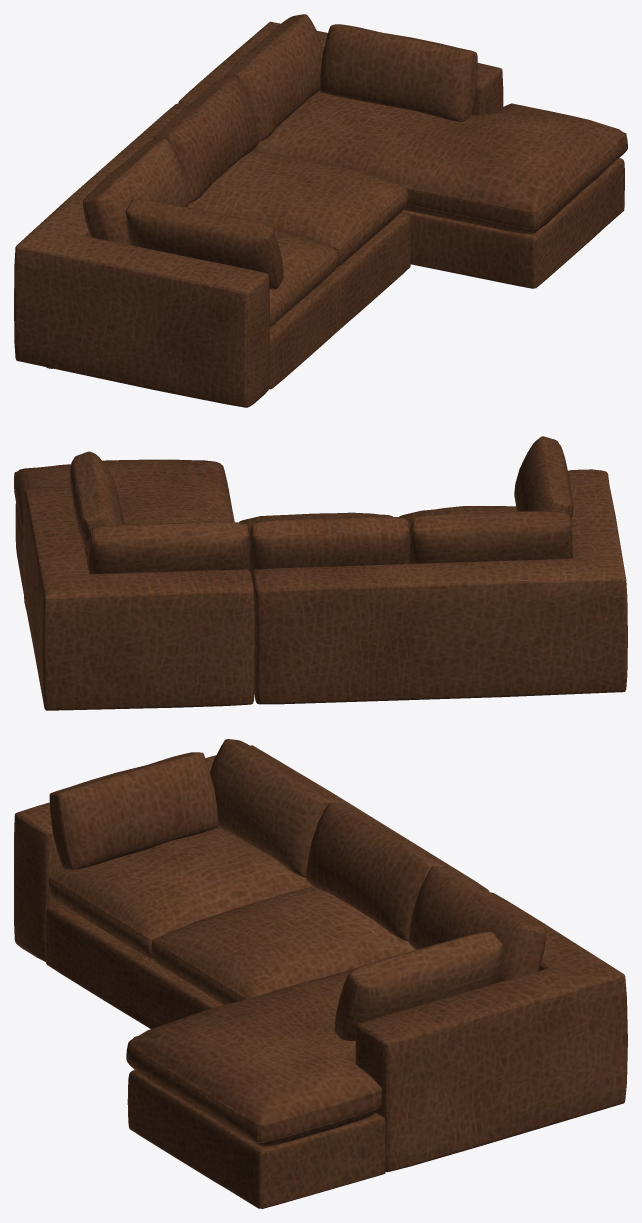
File: Couch1.glb
3 renders of one model, top to bottom at view 1: azimuth 30°, elevation 25°; view 2: azimuth 150°, elevation 25°; view 3: azimuth 270°, elevation 25°, orthographic. The views are drawn at different scales.
Parts seen in each view (by area): view 1: sofa_n3d; view 2: sofa_n3d; view 3: sofa_n3d.
Part boxes in pixels (x1,y1,x2,y2): sofa_n3d: (14, 14, 627, 407); sofa_n3d: (14, 436, 627, 710); sofa_n3d: (14, 739, 627, 1208).
Bounding box in the file's own units: 3.1 × 0.8 × 2.39.
1 material, 1 textured.
